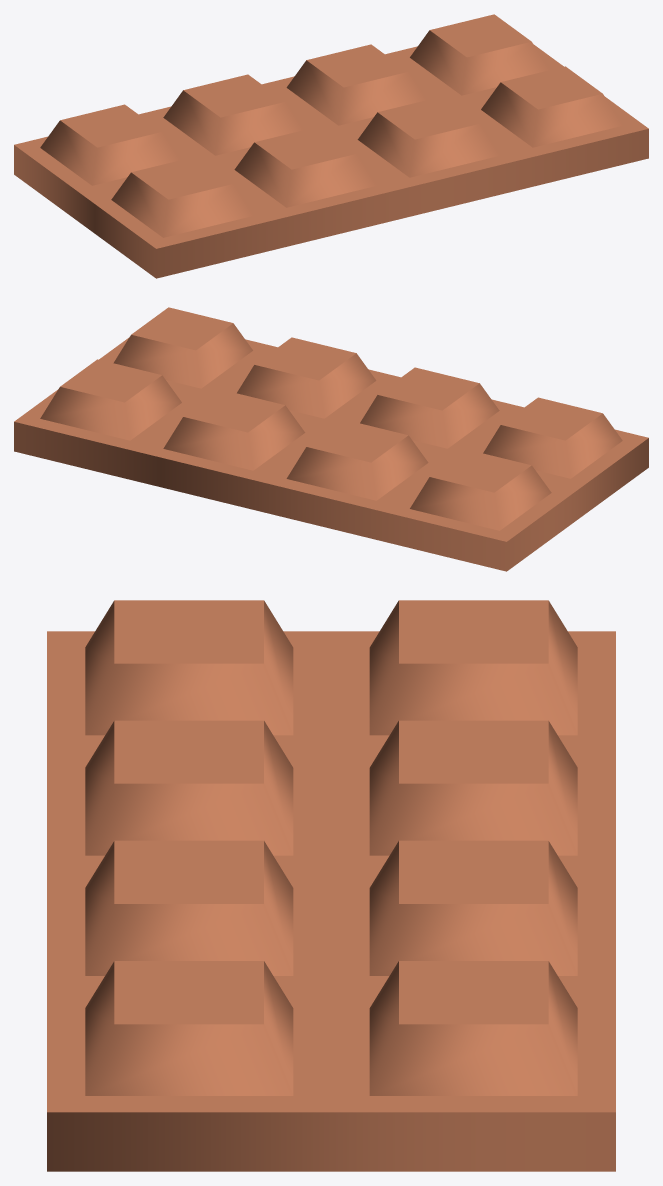
Rendered from Chocolate.glb.
The picture shows the model from 3 angles, top to bottom: view 1: azimuth 30°, elevation 25°; view 2: azimuth 150°, elevation 25°; view 3: azimuth 270°, elevation 25°; orthographic projection. The views are drawn at different scales.
Visible parts, largest first — view 1: chocolate; view 2: chocolate; view 3: chocolate.
Part boxes in pixels (box(x1,y1,x2,y2)): chocolate: box(14, 14, 648, 278); chocolate: box(14, 307, 648, 571); chocolate: box(47, 600, 615, 1171).
Bounding box in the file's own units: 0.2924 × 0.0337 × 0.1462.
